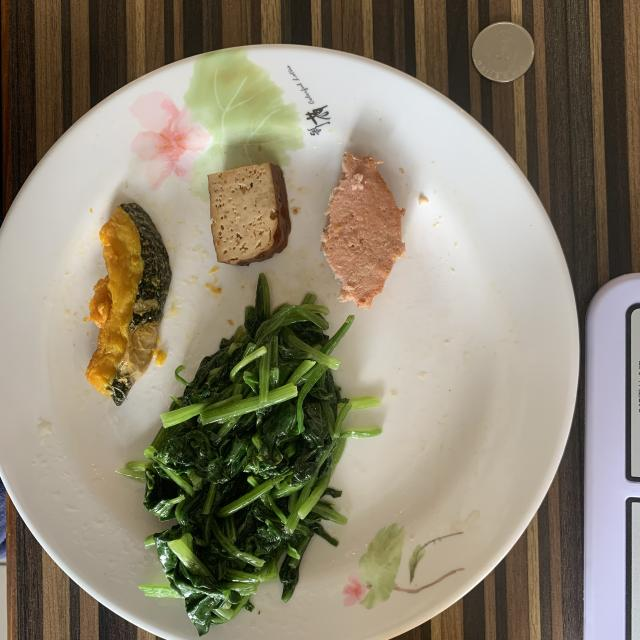Spam: (321, 152, 405, 309)
coin: (471, 21, 534, 82)
firm tofu: (208, 162, 291, 265)
mustard greens: (120, 275, 379, 635)
pumpkin: (86, 204, 171, 405)
